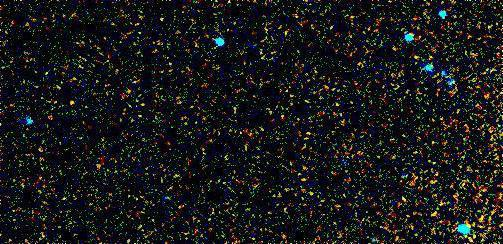star: (61, 88, 91, 118)
